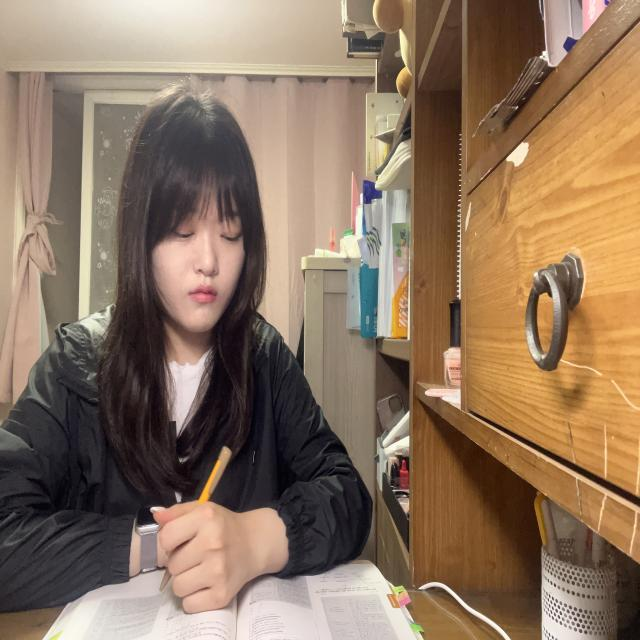studying-person: (0, 76, 426, 640)
